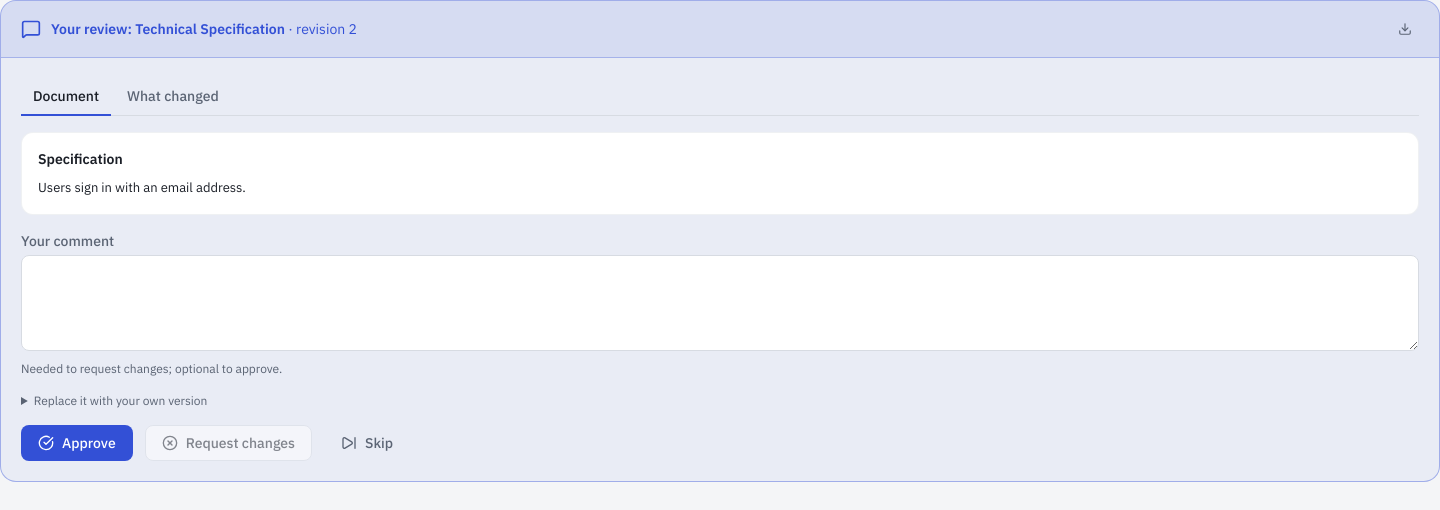
Test: a review › shows its document in place, and what changed since the revision before
Expected: the text "Users sign in with an email address." is shown, [38,179,246,196]
Click the tab "What changed".
click(173, 97)  # box [115,78,231,116]
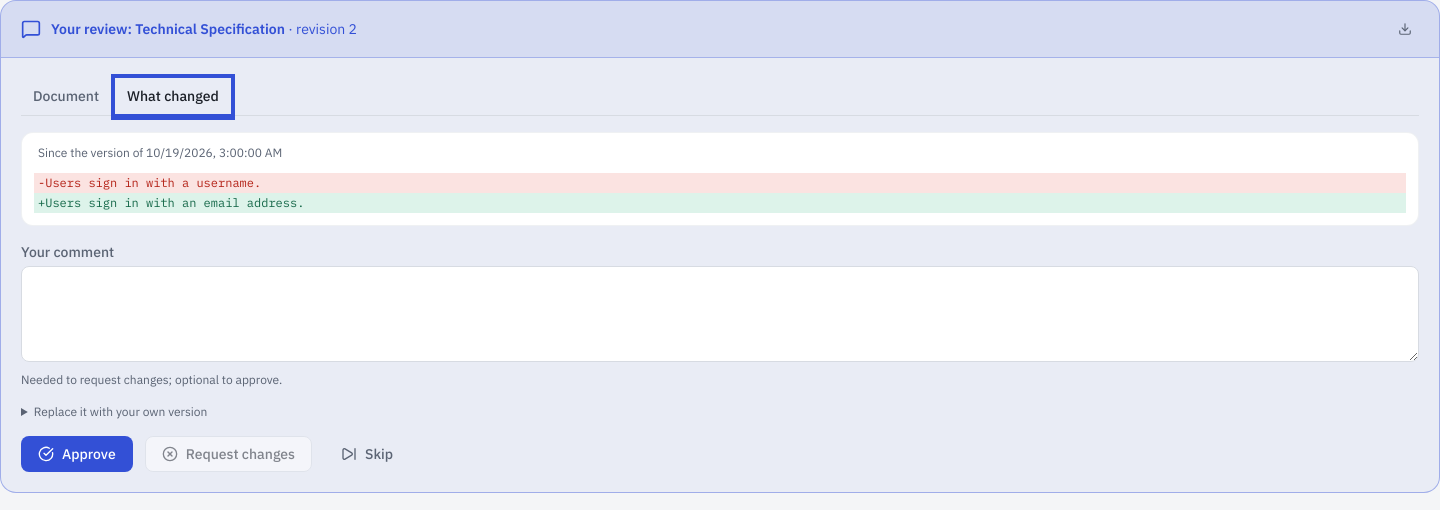
Now the text "-Users sign in with a username." is shown, box [34,173,1406,193]
